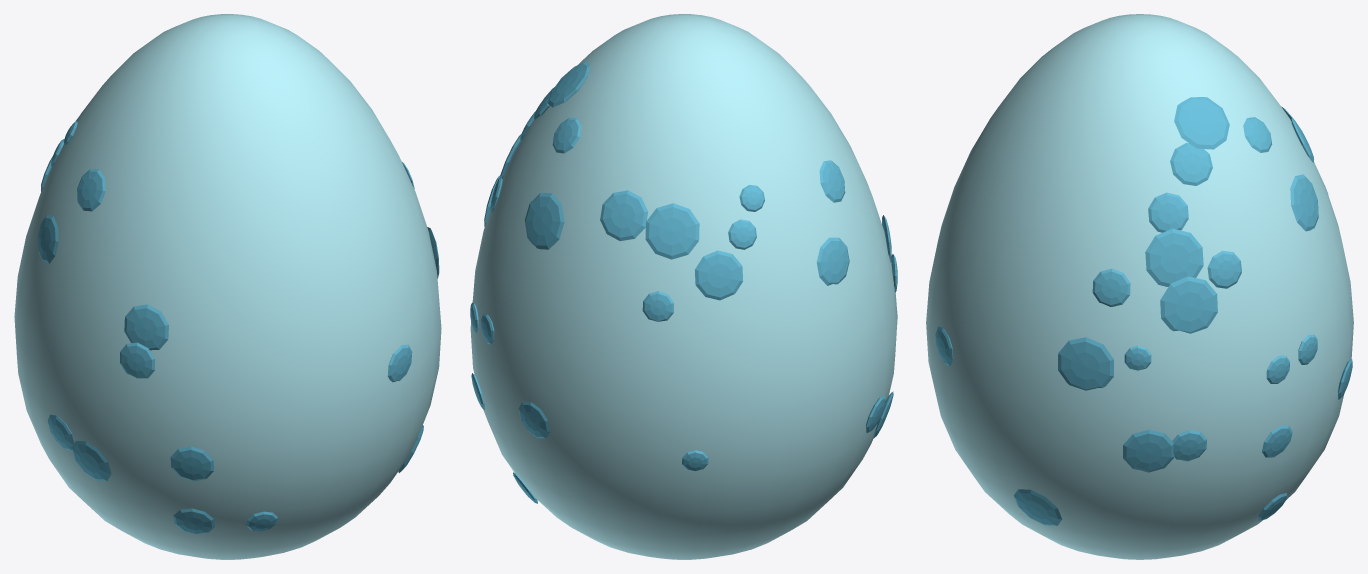
Rendered from egg.glb.
3 views of the same model, side by side, from view 1: azimuth 30°, elevation 25°; view 2: azimuth 150°, elevation 25°; view 3: azimuth 270°, elevation 25° (orthographic).
Parts seen in each view (by area): view 1: Egg shell, Shell spot.003, Shell spot.035, Shell spot.014, Shell spot.023, Shell spot.019, Shell spot.025, Shell spot, Shell spot.013, Shell spot.021; view 2: Egg shell, Shell spot.034, Shell spot.017, Shell spot.002, Shell spot.029, Shell spot, Shell spot.009, Shell spot.019, Shell spot.026, Shell spot.011, Shell spot.028, Shell spot.022 (+1 smaller); view 3: Egg shell, Shell spot.032, Shell spot.015, Shell spot.027, Shell spot.009, Shell spot.030, Shell spot.008, Shell spot.020, Shell spot.029, Shell spot.016, Shell spot.005, Shell spot.006 (+5 smaller).
Boxes of the visible parts, bbox=[...] form: Egg shell: bbox=[14, 14, 441, 559]; Shell spot.003: bbox=[124, 304, 168, 350]; Shell spot.035: bbox=[170, 446, 213, 481]; Shell spot.014: bbox=[120, 342, 154, 378]; Shell spot.023: bbox=[71, 441, 111, 480]; Shell spot.019: bbox=[77, 169, 105, 211]; Shell spot.025: bbox=[173, 508, 214, 534]; Shell spot: bbox=[38, 214, 58, 263]; Shell spot.013: bbox=[387, 344, 412, 382]; Shell spot.021: bbox=[47, 414, 74, 450]; Egg shell: bbox=[470, 14, 897, 559]; Shell spot.034: bbox=[645, 203, 699, 259]; Shell spot.017: bbox=[695, 250, 742, 300]; Shell spot.002: bbox=[600, 190, 647, 241]; Shell spot.029: bbox=[524, 193, 564, 249]; Shell spot: bbox=[816, 237, 849, 285]; Shell spot.009: bbox=[548, 61, 589, 107]; Shell spot.019: bbox=[819, 160, 845, 202]; Shell spot.026: bbox=[518, 401, 550, 438]; Shell spot.011: bbox=[642, 291, 673, 321]; Shell spot.028: bbox=[552, 117, 581, 153]; Shell spot.022: bbox=[728, 219, 756, 249]; Egg shell: bbox=[926, 14, 1353, 559]; Shell spot.032: bbox=[1160, 276, 1217, 333]; Shell spot.015: bbox=[1145, 228, 1203, 286]; Shell spot.027: bbox=[1058, 337, 1113, 390]; Shell spot.009: bbox=[1174, 97, 1229, 149]; Shell spot.030: bbox=[1123, 429, 1174, 472]; Shell spot.008: bbox=[1170, 142, 1212, 185]; Shell spot.020: bbox=[1148, 192, 1188, 232]; Shell spot.029: bbox=[1290, 174, 1318, 231]; Shell spot.016: bbox=[1092, 268, 1130, 306]; Shell spot.005: bbox=[1013, 489, 1062, 525]; Shell spot.006: bbox=[1207, 250, 1241, 288].
Bounding box in the file's own units: 1.11 × 1.46 × 1.1.
